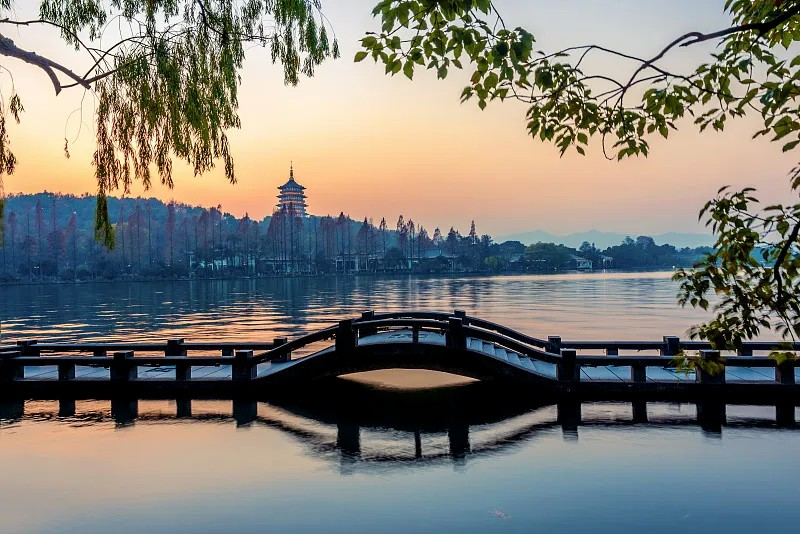Leifeng: (277, 160, 310, 216)
